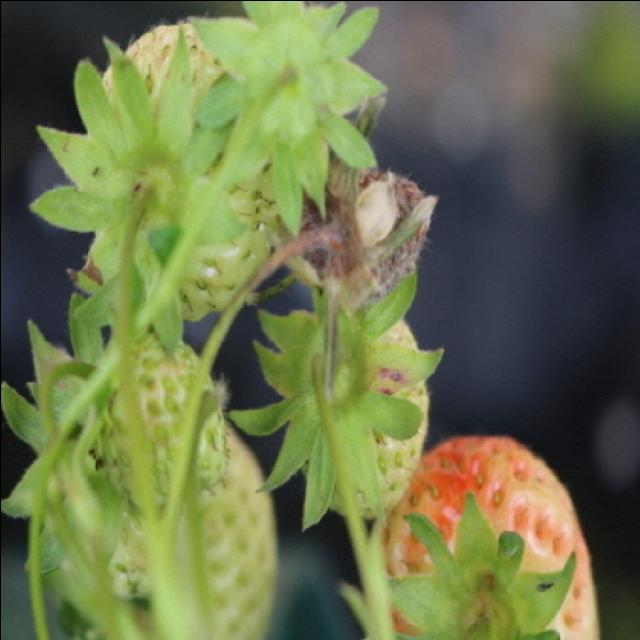Gray Mold: (253, 147, 440, 303)
